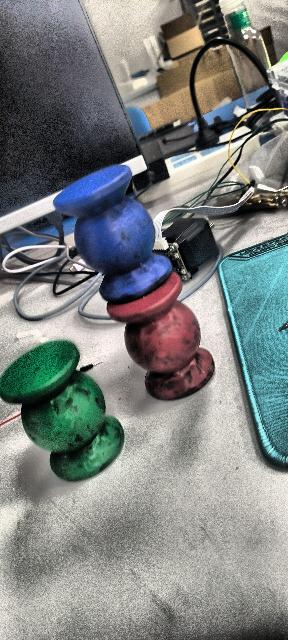blue: (54, 163, 177, 304)
green: (0, 340, 129, 477)
red: (103, 269, 220, 402)
